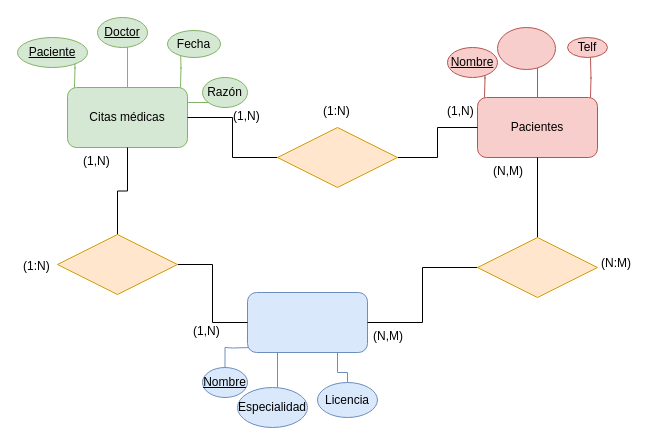
Image size: 653x445. Some labels were removed from this diagram. The shapes that lost their labels are listed below. From the top down, each one's centre as x and y in pixels, then its label:
the point at 526,48: Dirección
the point at 337,157: Programar
the point at 117,264: Tiene
the point at 537,267: Revisar
the point at 307,322: Doctores
